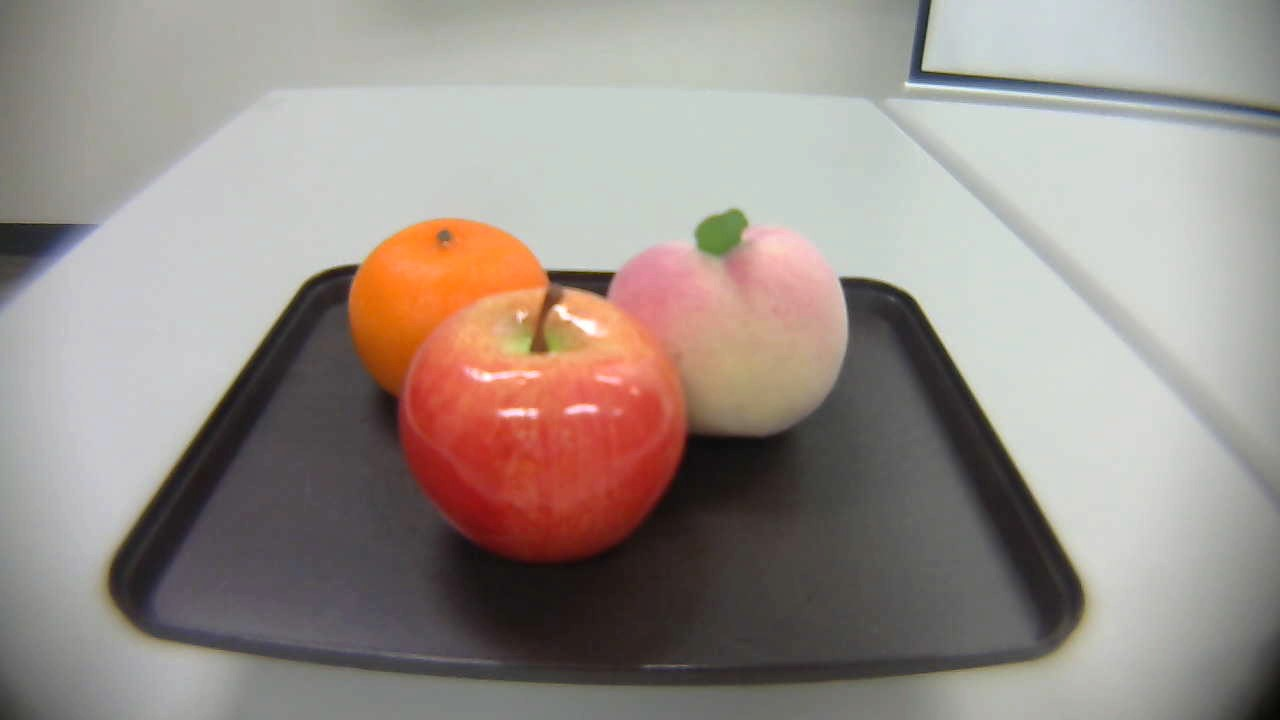orange: (333, 211, 570, 397)
peach: (604, 211, 847, 447)
red apple: (401, 279, 689, 572)
